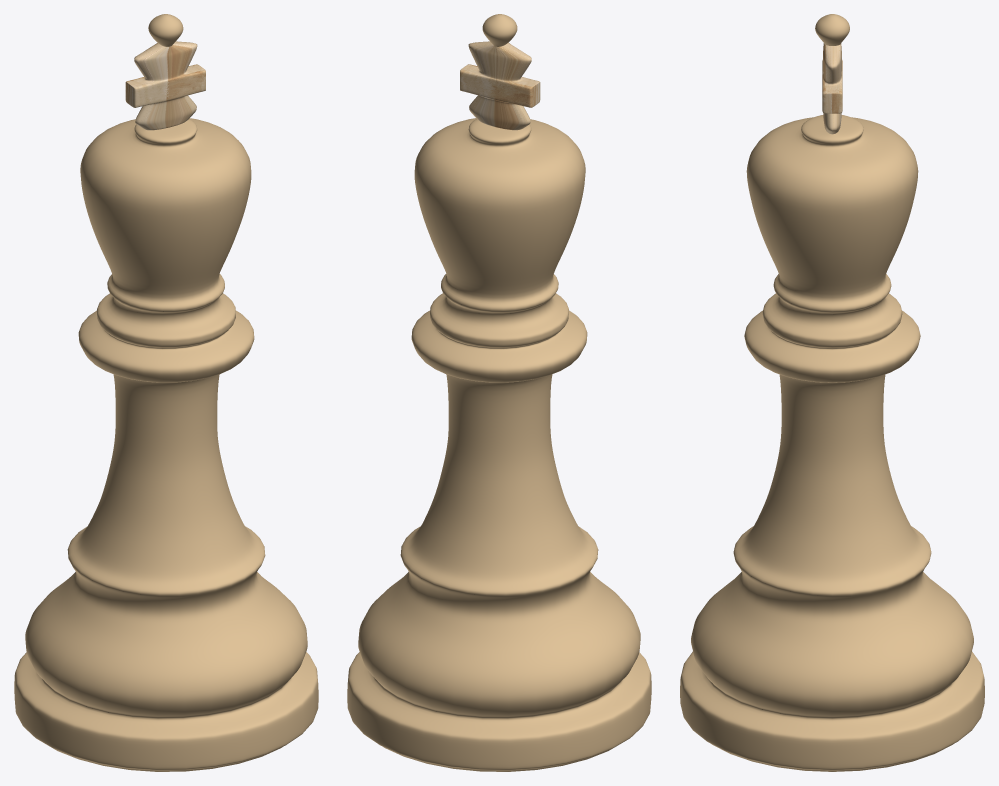
File: Rey.fbx
The picture shows the model from 3 angles, left to right: view 1: azimuth 30°, elevation 25°; view 2: azimuth 150°, elevation 25°; view 3: azimuth 270°, elevation 25°; orthographic projection.
Parts seen in each view (by area): view 1: Rey; view 2: Rey; view 3: Rey.
Part boxes in pixels (left/top/right/bottom): Rey: left=14, top=14, right=318, bottom=771; Rey: left=347, top=14, right=651, bottom=771; Rey: left=680, top=14, right=984, bottom=771.
Bounding box in the file's own units: 81.73 × 207 × 81.73.
